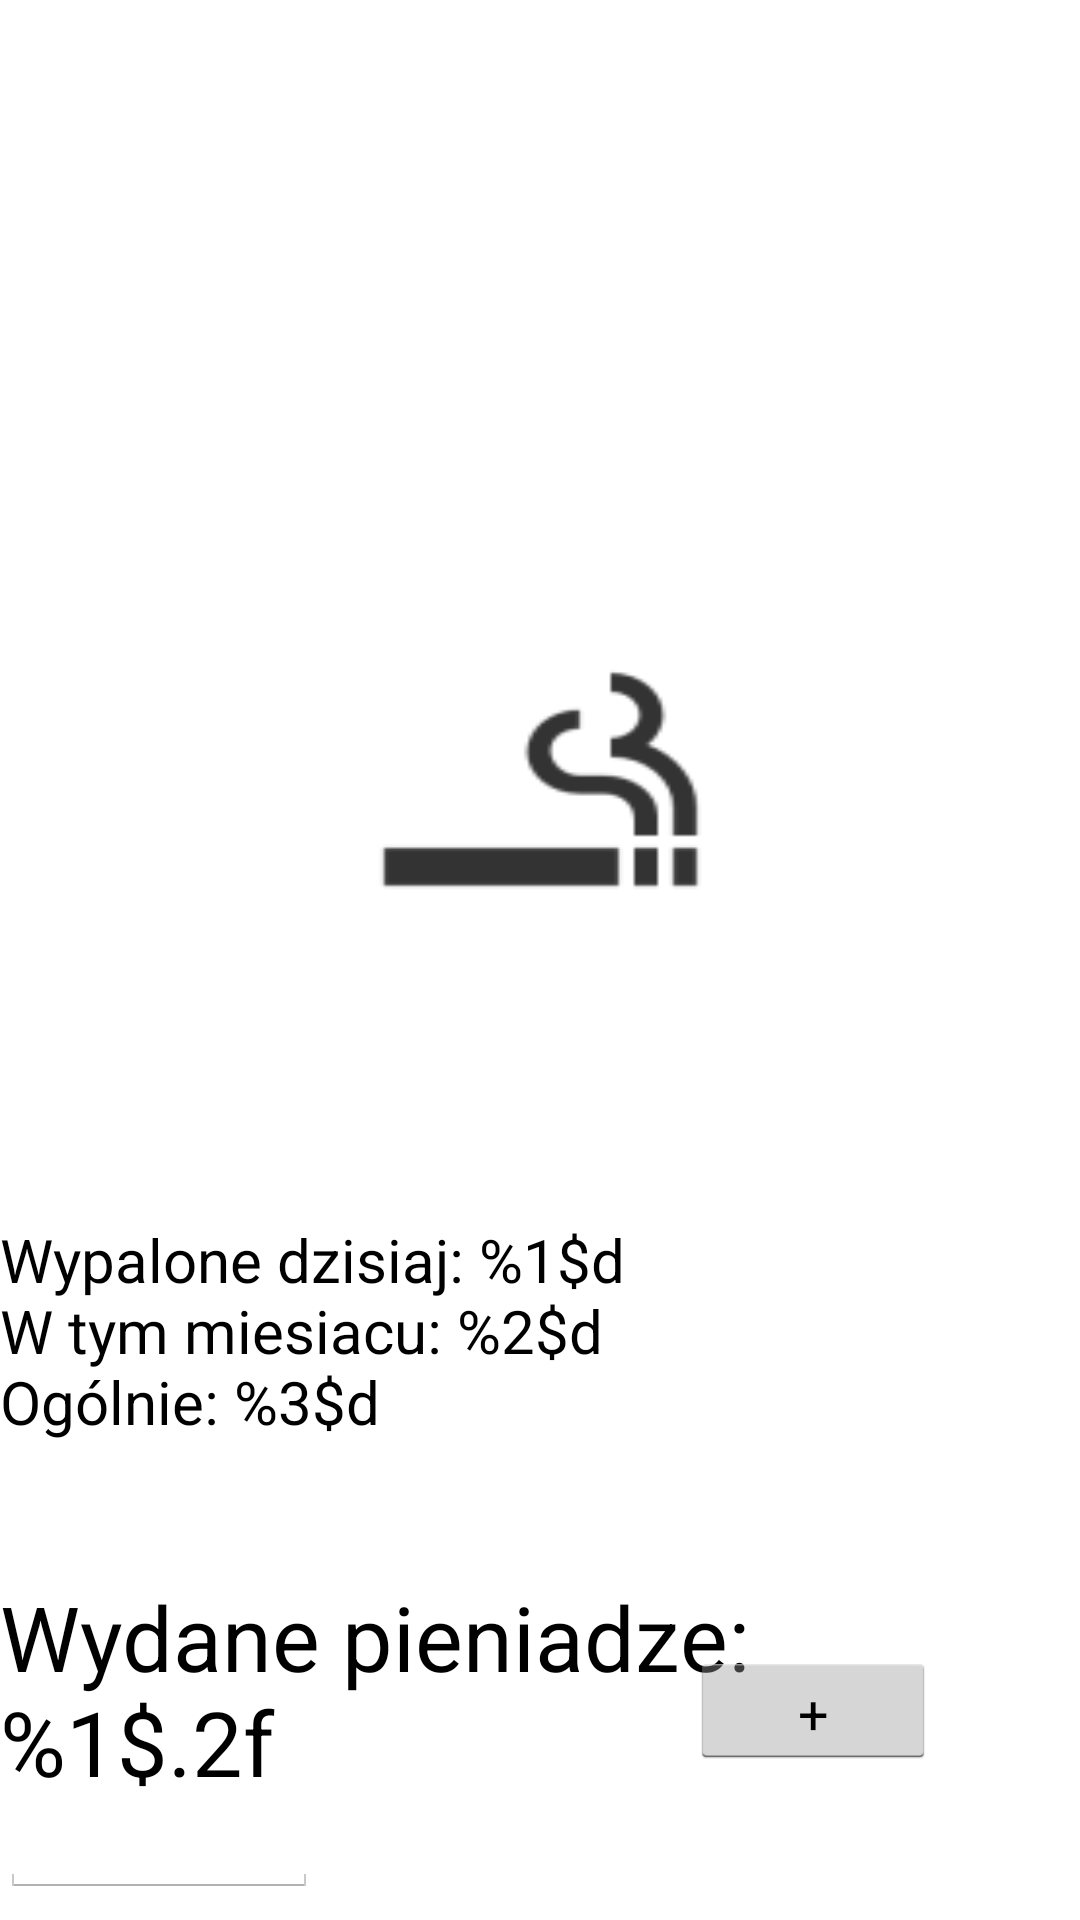

Named icons in this screenshot (1080px×1920px) and their centers, (x,y):
smoke: (540,779)
